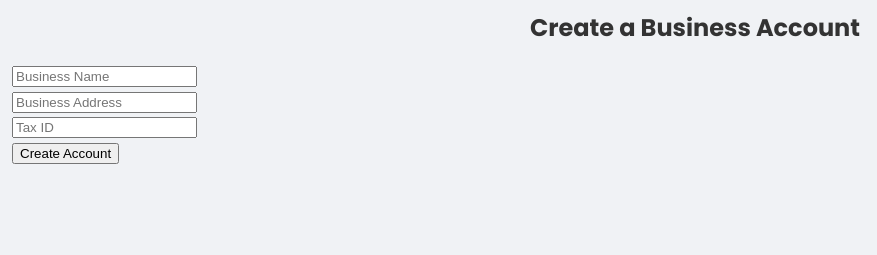
Test: BusinessOnboarding › checks for business name availability and shows an error if not available
The image size is (877, 255).
Type "TakenCorp" into the field with placeholder "Business Name" at (104, 77), box [12,66,197,87]
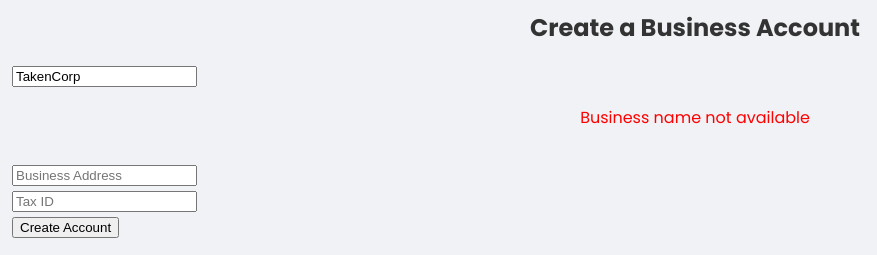
Expected: the text "Business name not available" is shown, [580,106,810,129]
